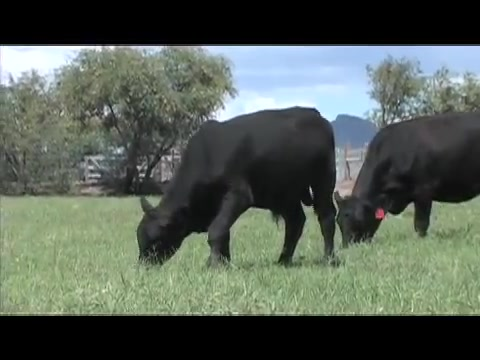cow: (137, 107, 338, 270), (337, 111, 480, 247)
